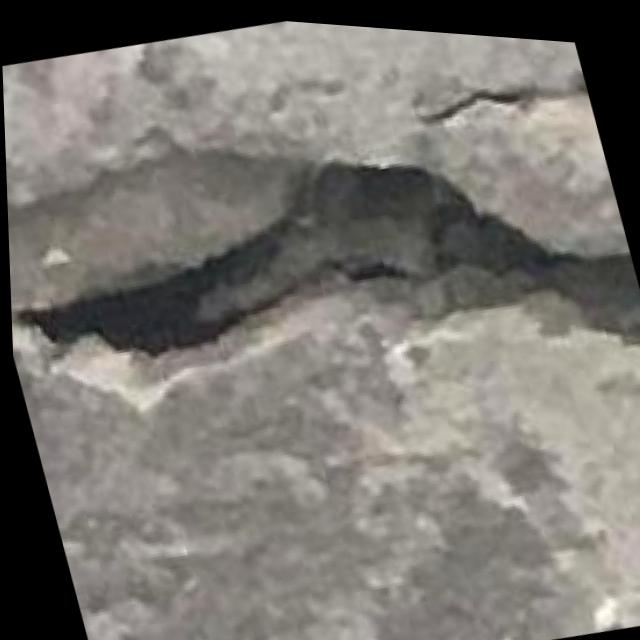Crack: (1, 38, 640, 504), (405, 30, 591, 144)
